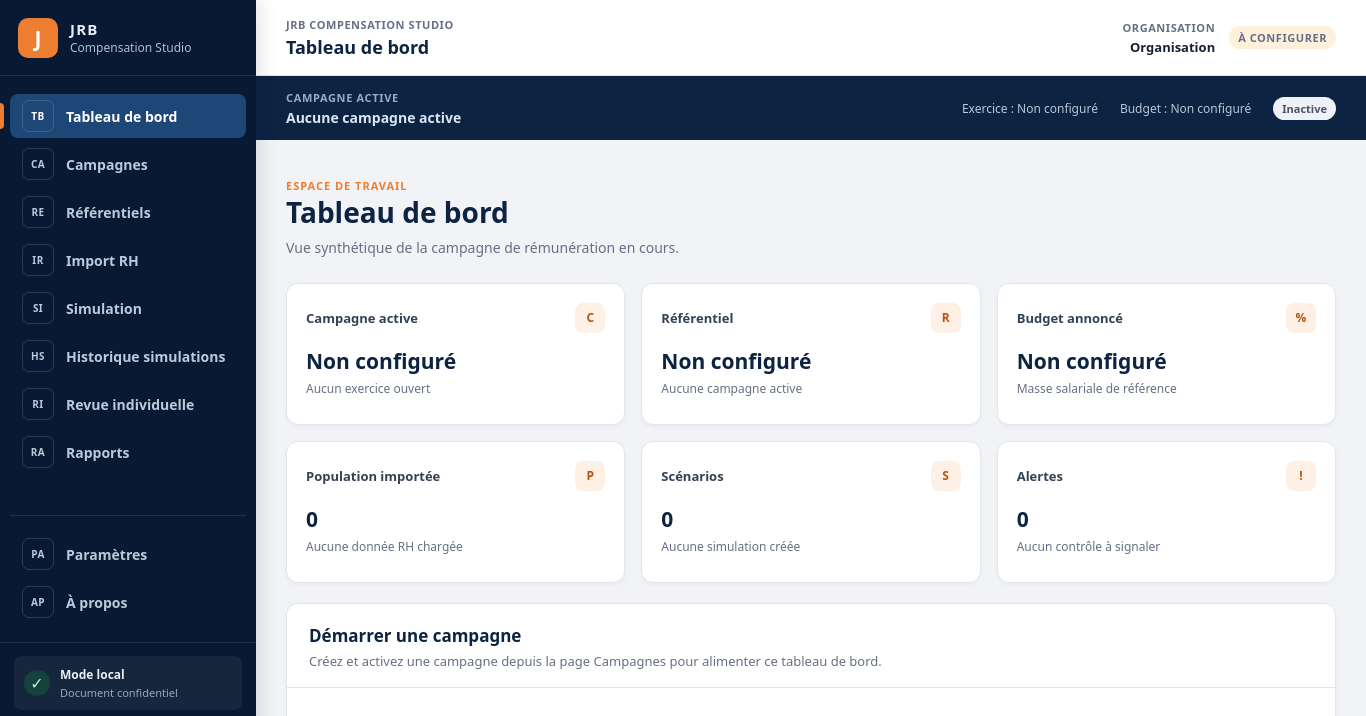
it: référentiels — initialisation › initialise automatiquement le référentiel à la création d’une campagne
This screenshot has width=1366, height=716.
Expected: the navigation bar named "Navigation principale" is shown, [0, 76, 256, 642]
Click the button "CA Campagnes": (128, 164) [10, 142, 246, 186]
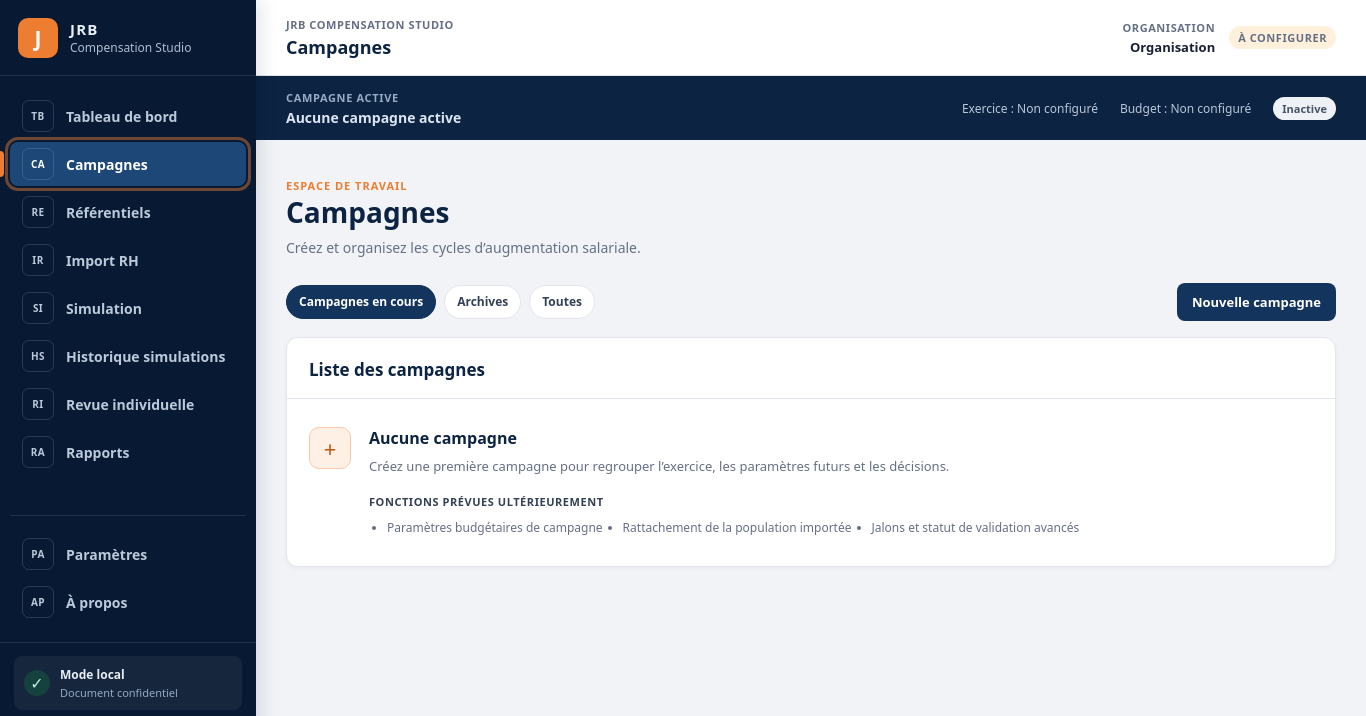
Click the button "Nouvelle campagne": (1256, 302) [1177, 283, 1336, 321]
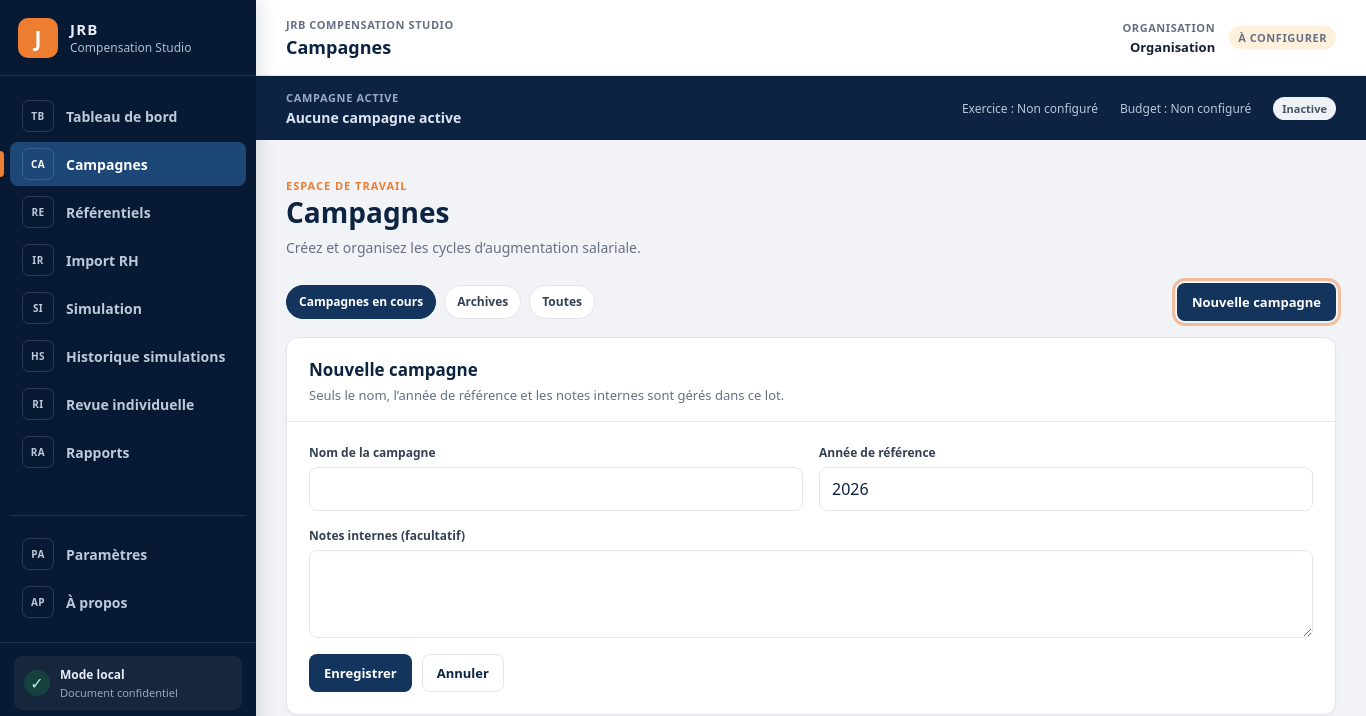
In the field labelled "Nom de la campagne": (556, 489) [309, 467, 803, 511], type "Nouvelle campagne référentiel"
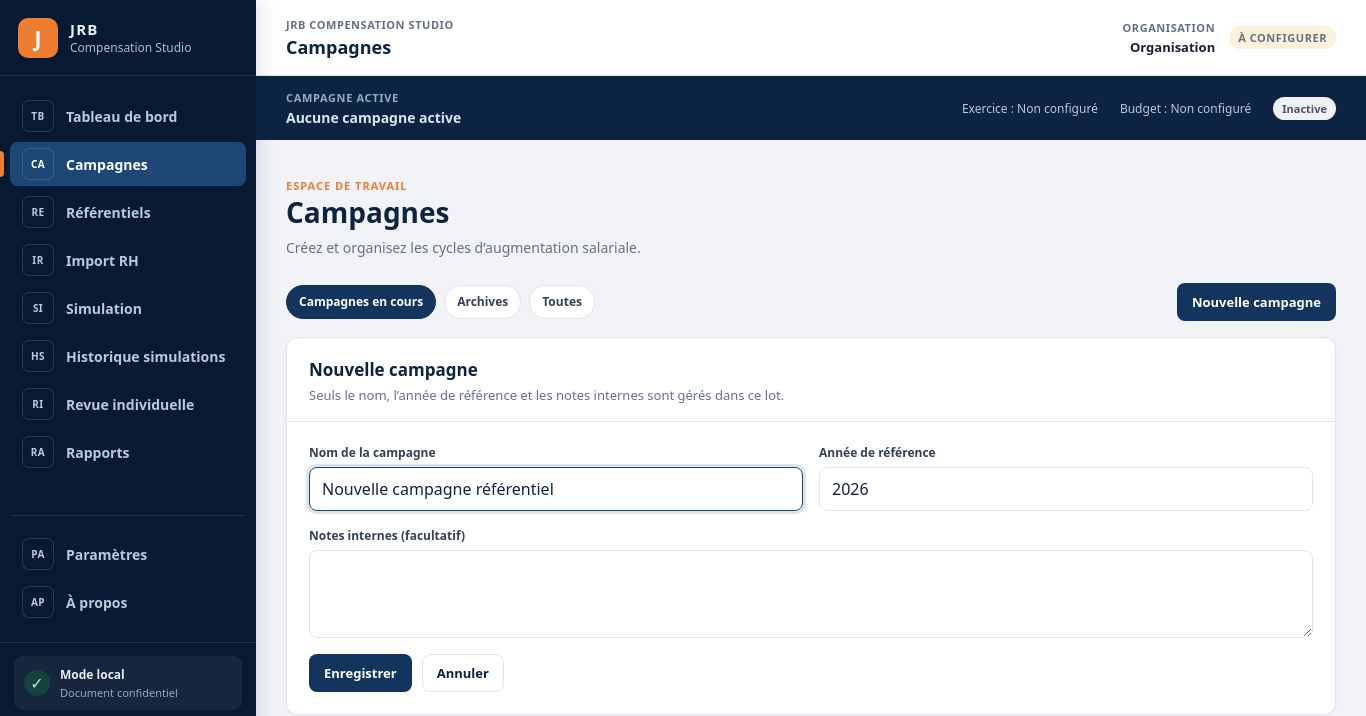
Replace the text in the number field labelled "Année de référence" with "2028": (1066, 489) [819, 467, 1313, 511]
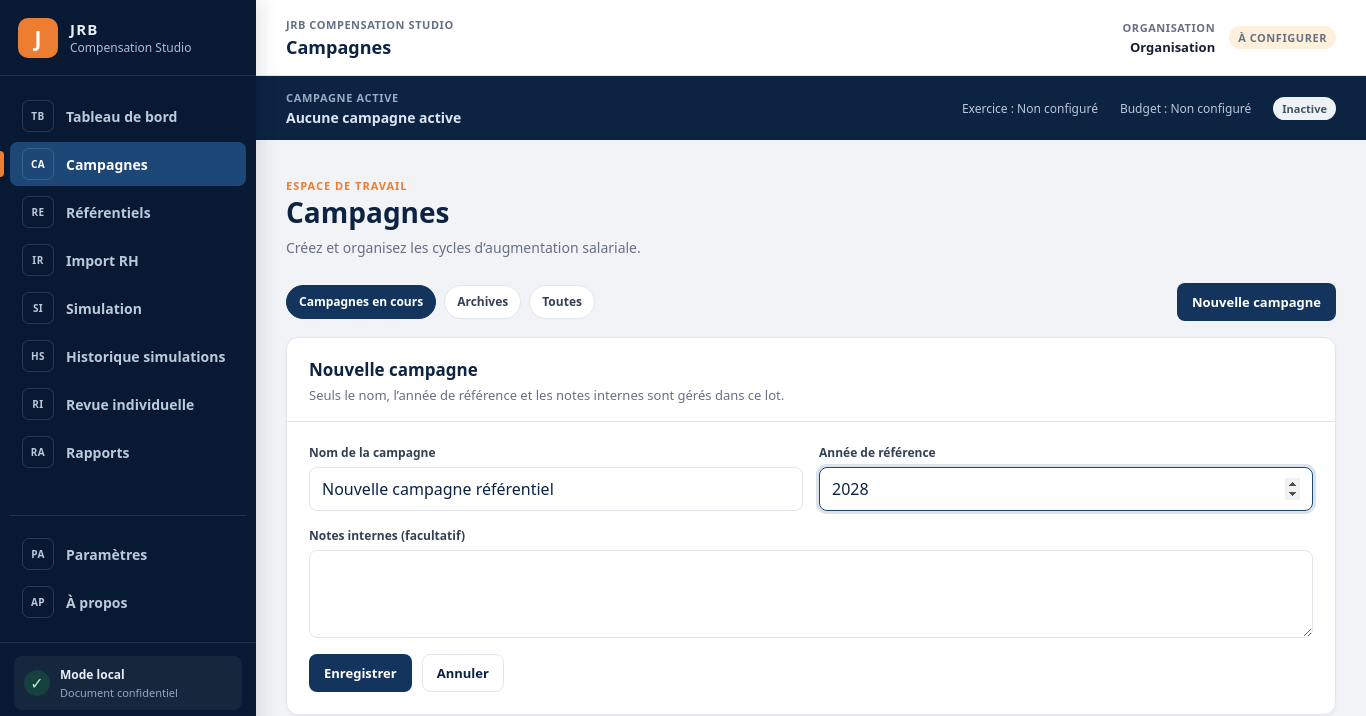
Click the button "Enregistrer": (360, 673) [309, 654, 412, 692]
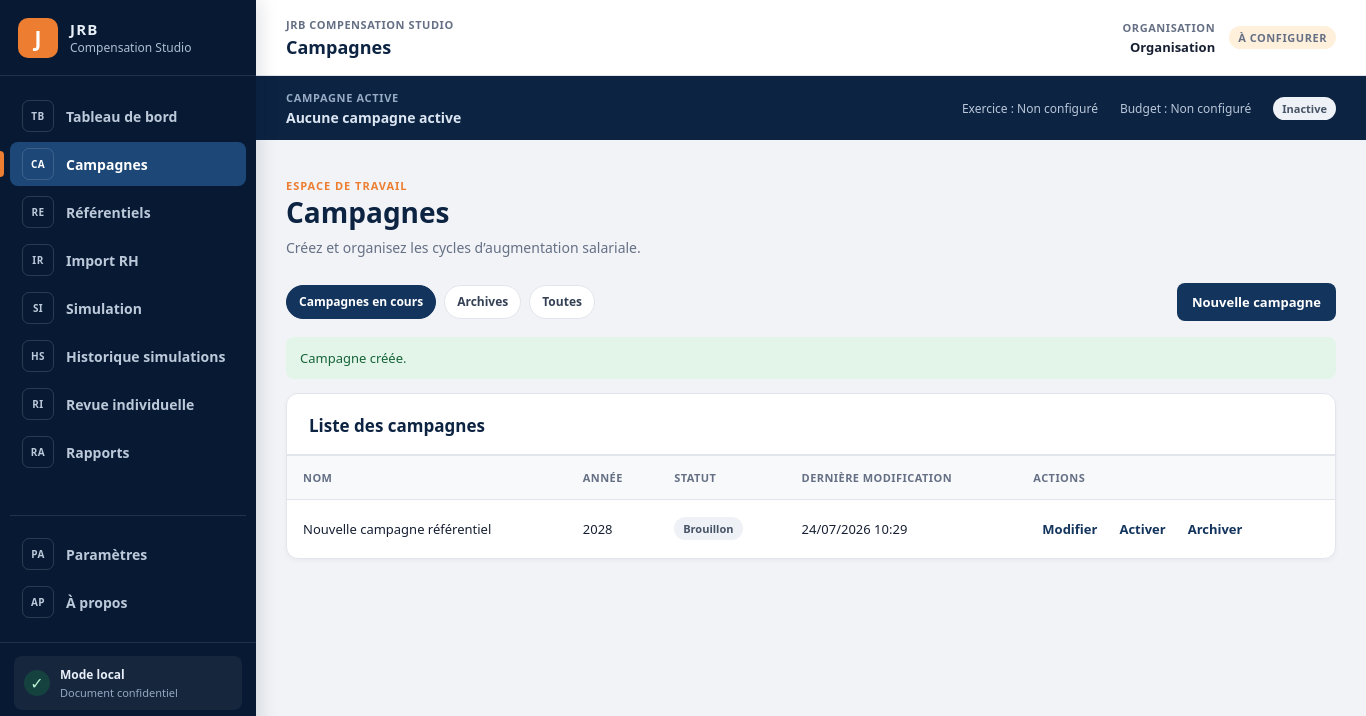
Expected: the text "Campagne créée." is shown, [286, 337, 1336, 379]
